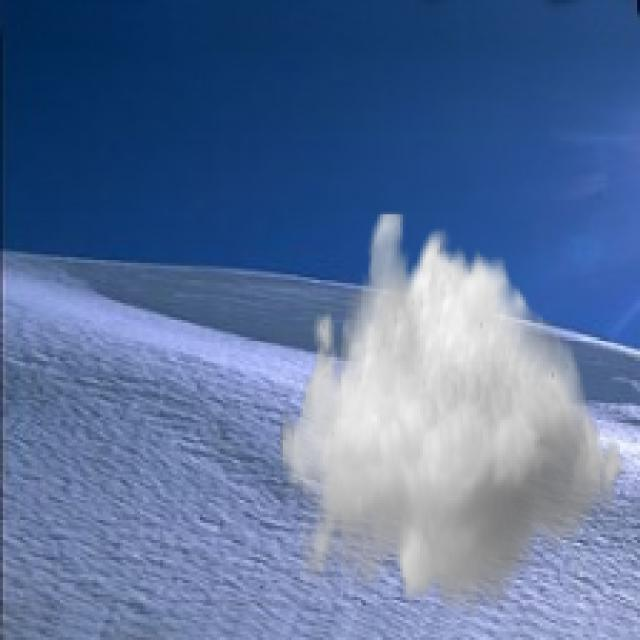smoke: (280, 212, 631, 617)
